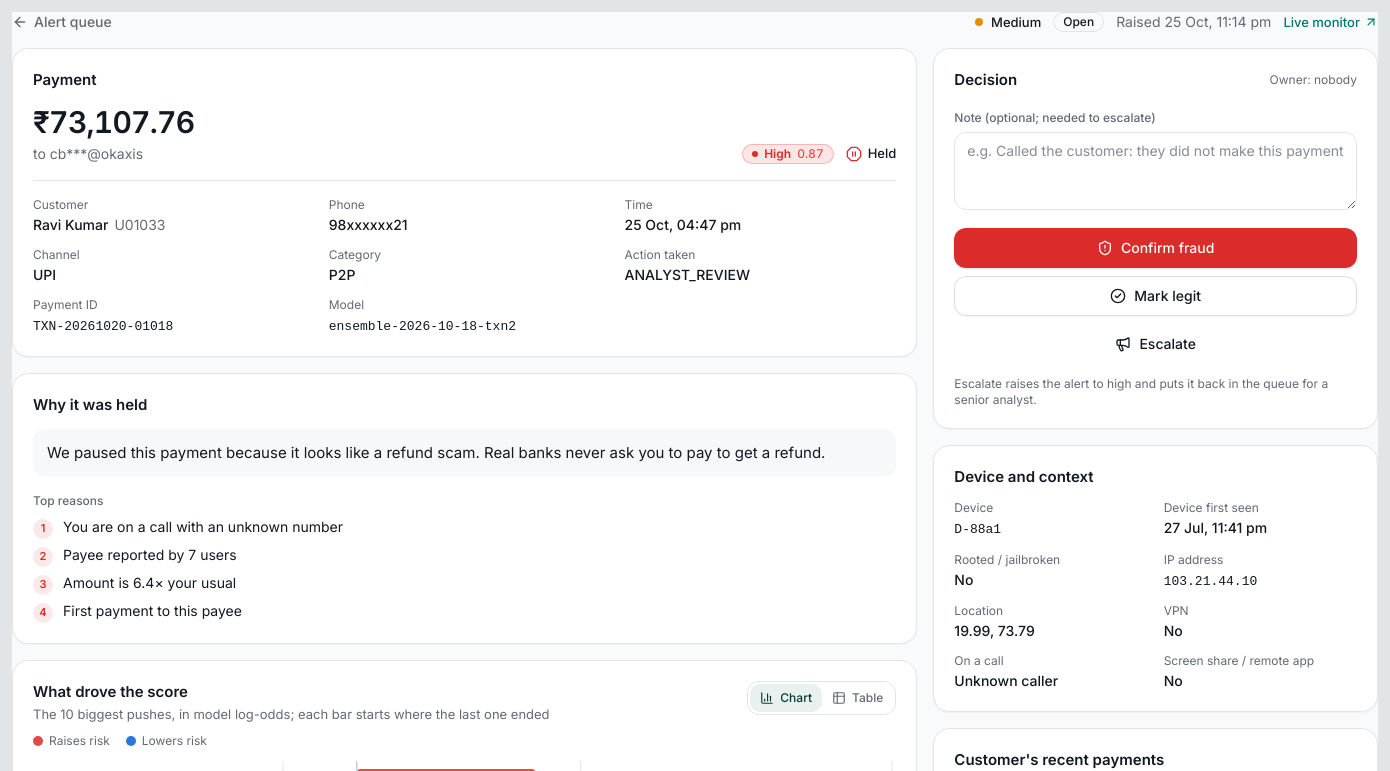
Test: Case Detail (spec 06 §3) › escalate needs a reason, then raises severity and puts the alert back in the queue
The width and height of the screenshot is (1390, 771).
Click the button "Escalate" at (1156, 344), box [954,324,1357,364]
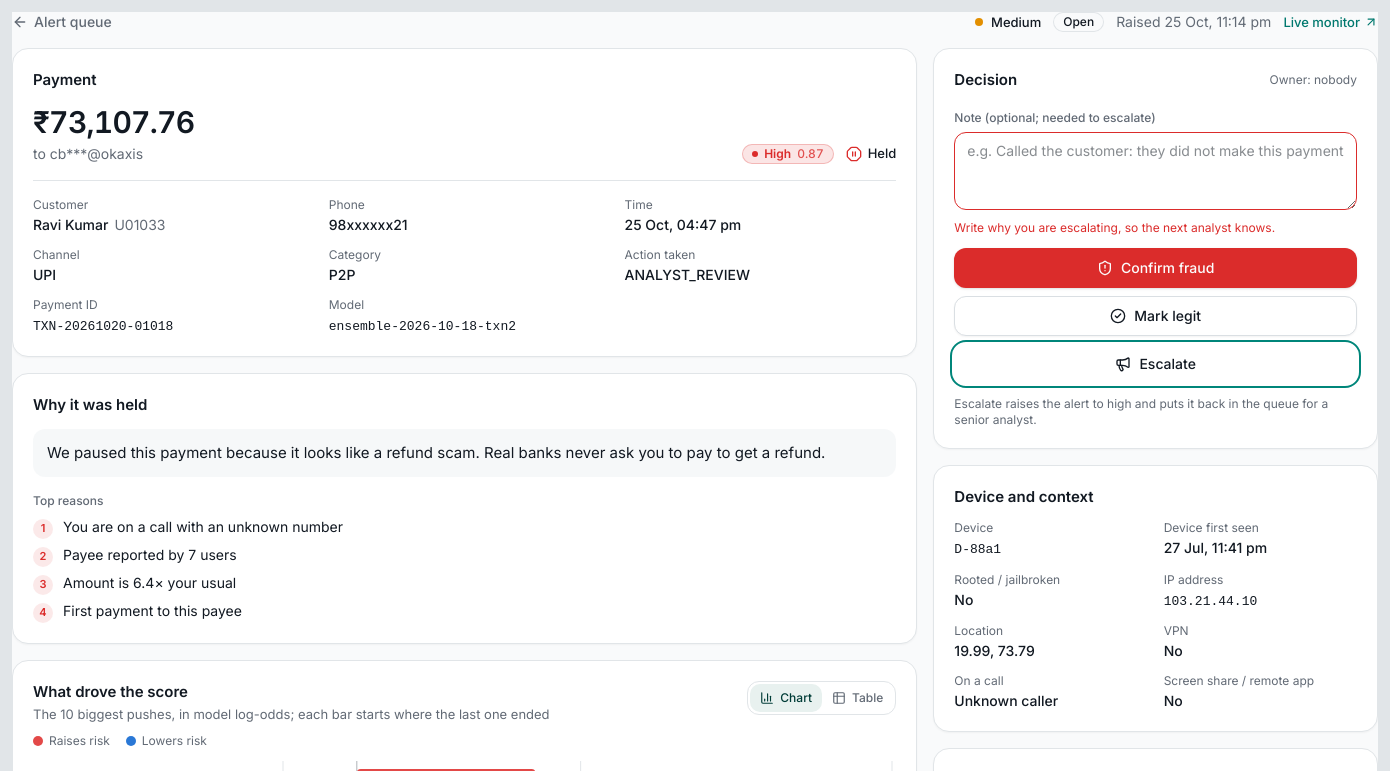
Expected: the text "Write why you are escalating, so the next analyst knows." is shown, [954,220,1275,234]
Type "Ring of mule accounts, needs a senior" into the text box labelled "Note (optional; needed to escalate)" at (1156, 170), box [954,132,1357,210]
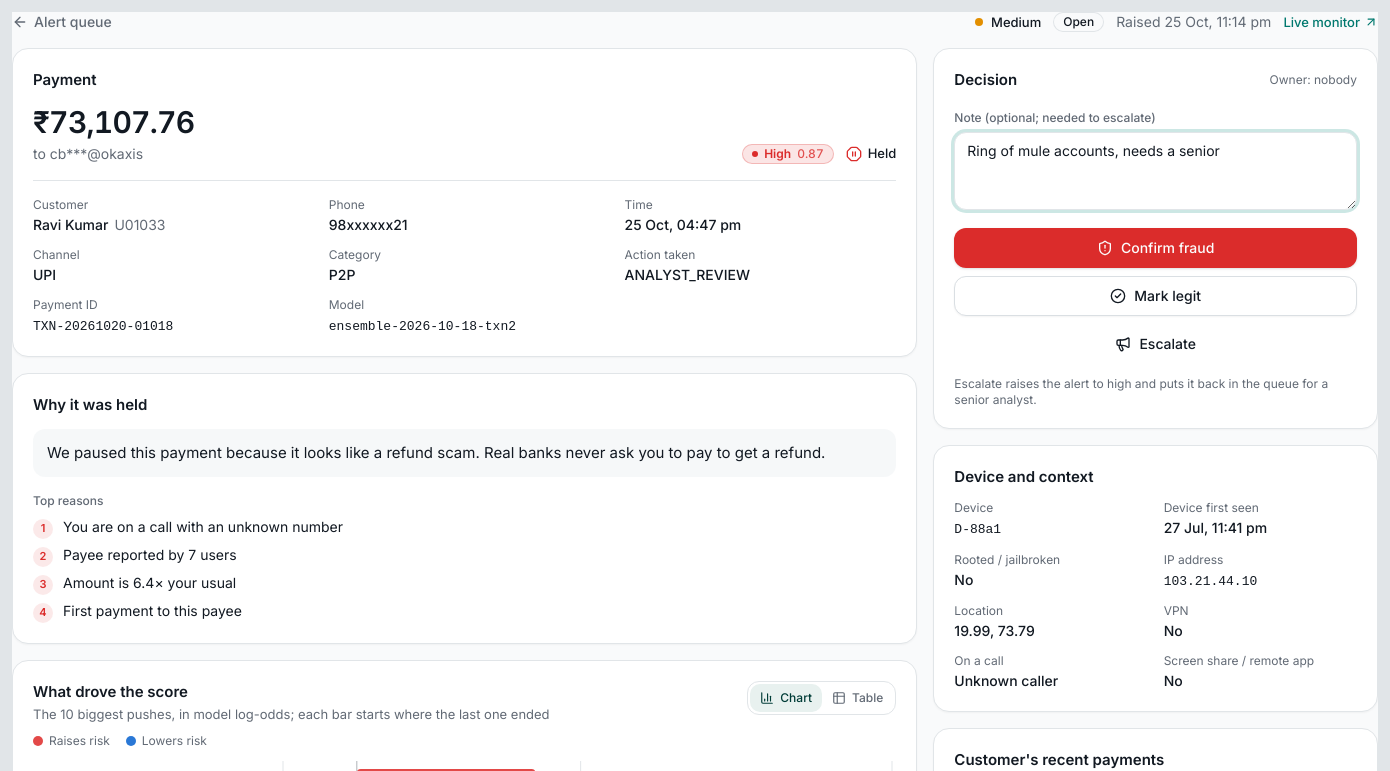
Click the button "Escalate" at (1156, 344), box [954,324,1357,364]
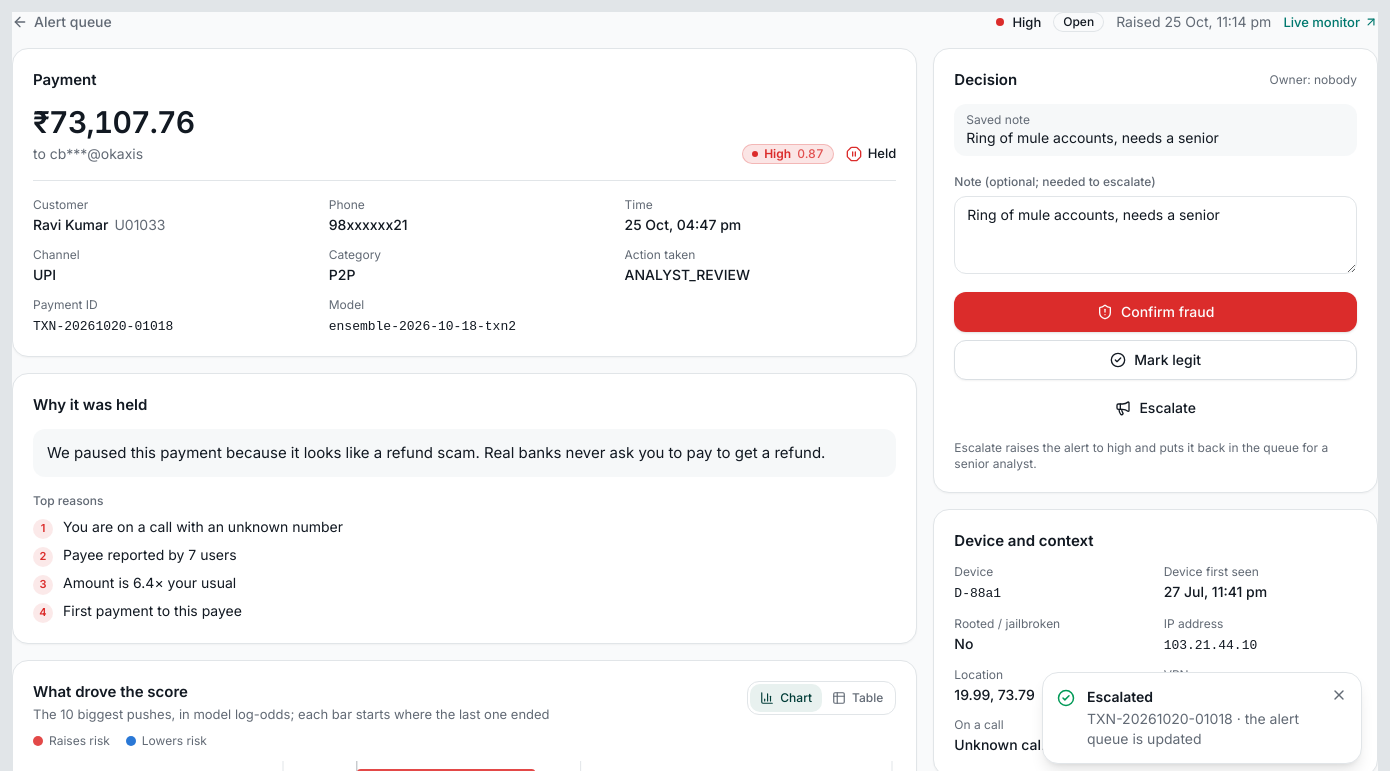
Expected: the button "Confirm fraud" is shown, [954,292,1357,332]
Expected: the text "Escalated" is shown, [1087,688,1153,705]
